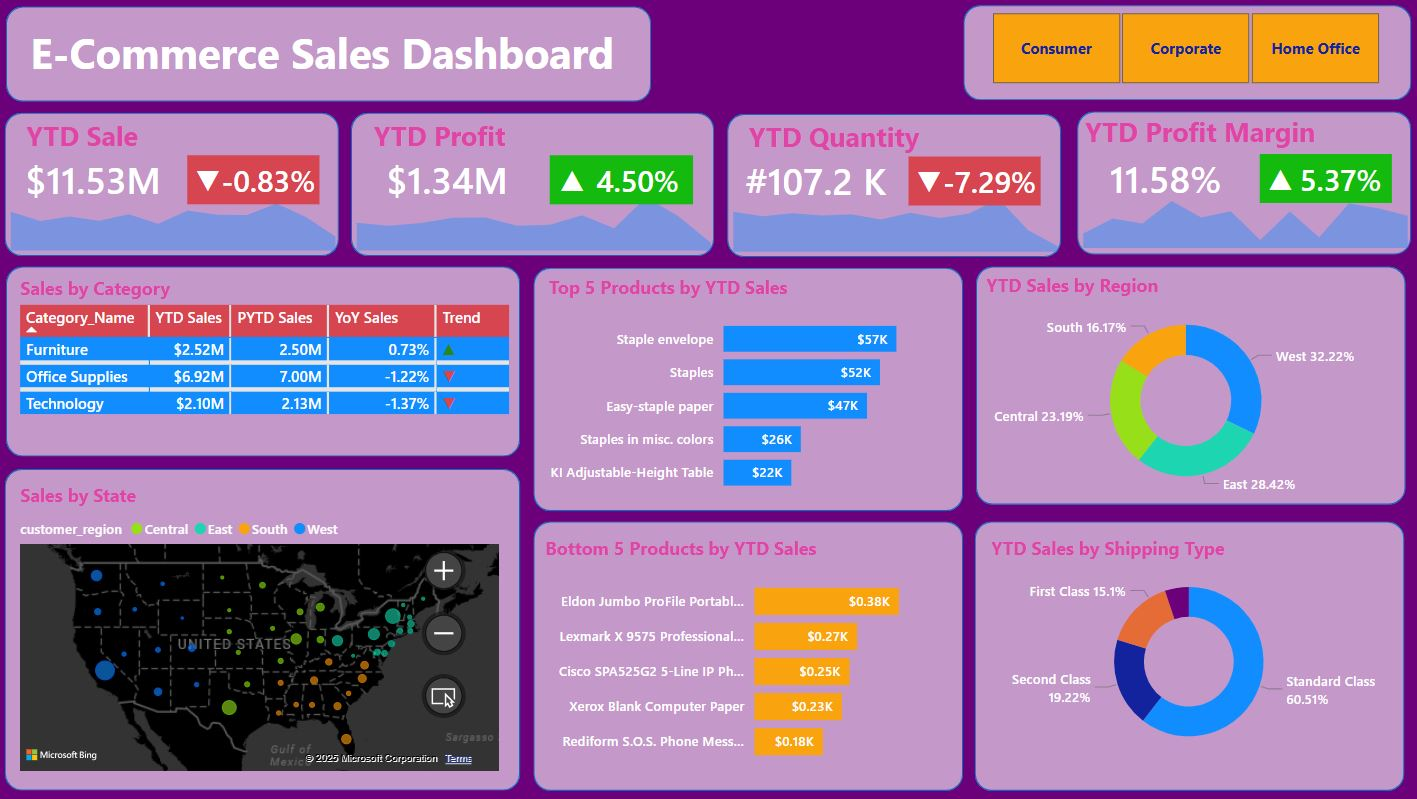

The page's visual inventory and layout, read from the dashboard file:
{"tool":"powerbi","page":{"name":"Page 1","canvas":[1280,720],"ordinal":0},"visuals":[{"type":"shape","box":[13.7,11,576.3,85.1],"z":0},{"type":"textbox","box":[30.2,22,570.8,74.1],"z":1000},{"type":"group","id":"g1","title":"Group 2","box":[2.3,104.7,321.2,129.2],"z":2000},{"type":"shape","box":[970.6,104.8,298.2,127.8],"z":2000,"group":"g5"},{"type":"shape","box":[12.7,105.9,298.4,128],"z":2000,"group":"g1"},{"type":"shape","box":[657.5,107.1,298.2,127.8],"z":3000},{"type":"card","fields":{"Values":["ecommerce_data.YTD Profit Margin"]},"box":[970.6,138.2,158.4,53],"z":3000,"group":"g5"},{"type":"card","fields":{"Values":["ecommerce_data.YTD Sales"]},"box":[12.7,139.3,158.5,53.1],"z":3000,"group":"g1"},{"type":"shape","box":[322,105.9,324.4,128],"z":4000},{"type":"areaChart","fields":{"Category":["Calendar.Month"],"Y":["ecommerce_data.Profit Margin"]},"box":[960.2,164.7,321,68],"z":4000,"group":"g5"},{"type":"areaChart","fields":{"Y":["Sum(ecommerce_data.sales_per_order)"],"Category":["Calendar.Month"]},"box":[2.3,165.8,321.2,68.1],"z":4000,"group":"g1"},{"type":"textbox","box":[972.8,101.6,284.9,50],"z":5000,"group":"g5"},{"type":"textbox","box":[27.2,104.7,148.2,43.8],"z":5000,"group":"g1"},{"type":"card","fields":{"Values":["ecommerce_data.YTD Concatenate"]},"box":[657.5,140.5,158.4,53],"z":5000},{"type":"shape","box":[1133.1,142.8,118,43.8],"z":5000,"group":"g2"},{"type":"shape","box":[175.3,143.9,118.1,43.8],"z":5000,"group":"g3"},{"type":"shape","box":[820,145.1,118,43.8],"z":5000,"group":"g4"},{"type":"card","fields":{"Values":["ecommerce_data.YTD Profit"]},"box":[322,139.4,172.3,53.1],"z":6000},{"type":"group","id":"g2","title":"Group 1","box":[1133.1,142.8,130.5,43.8],"z":6000,"group":"g5"},{"type":"group","id":"g3","title":"Group 1","box":[175.3,143.9,130.6,43.8],"z":6000,"group":"g1"},{"type":"card","fields":{"Values":["ecommerce_data.YoY Profit Margin"]},"box":[1147.6,146.1,116,40.5],"z":6000,"group":"g2"},{"type":"card","fields":{"Values":["ecommerce_data.YoY Sales"]},"box":[189.8,147.2,116.1,40.5],"z":6000,"group":"g3"},{"type":"card","fields":{"Values":["ecommerce_data.YoY Qty"]},"box":[834.5,148.4,116,40.5],"z":6000,"group":"g4"},{"type":"card","fields":{"Values":["ecommerce_data.Profit Margin Icon"]},"box":[1133.1,146.1,37.3,40.5],"z":7000,"group":"g2"},{"type":"card","fields":{"Values":["ecommerce_data.Sales Icon"]},"box":[175.3,147.2,37.3,40.5],"z":7000,"group":"g3"},{"type":"card","fields":{"Values":["ecommerce_data.Qty Icon"]},"box":[820,148.4,37.3,40.5],"z":7000,"group":"g4"},{"type":"areaChart","fields":{"Category":["Calendar.Month"],"Y":["Sum(ecommerce_data.order_quantity)"]},"box":[647.1,167,321,68],"z":7000},{"type":"areaChart","fields":{"Category":["Calendar.Month"],"Y":["Sum(ecommerce_data.profit_per_order)"]},"box":[310.7,165.9,349.2,68.1],"z":8000},{"type":"textbox","box":[672.1,105.8,196.5,44.2],"z":9000},{"type":"group","id":"g4","title":"Group 1","box":[820,145.1,130.5,43.8],"z":10000},{"type":"group","id":"g5","title":"Group 2","box":[960.2,101.6,321,131],"z":11000},{"type":"shape","box":[498.8,144,128.4,43.8],"z":12000},{"type":"textbox","box":[337.8,104.7,161.1,43.8],"z":13000},{"type":"card","fields":{"Values":["ecommerce_data.YoY Profit"]},"box":[514.6,147.3,126.1,40.5],"z":14000},{"type":"card","fields":{"Values":["ecommerce_data.Profit Icon"]},"box":[498.8,147.3,40.5,40.5],"z":15000},{"type":"shape","box":[14,243,459.3,169.8],"z":16000},{"type":"pivotTable","title":"Sales by Category","fields":{"Rows":["ecommerce_data.category_name"],"Values":["ecommerce_data.YTD Sales","ecommerce_data.PYTD Sales","ecommerce_data.YoY Sales","ecommerce_data.Sales Icon"]},"box":[20.9,251.2,452.3,150],"z":17000},{"type":"shape","box":[12.8,424.4,460.5,287.2],"z":18000},{"type":"map","title":" Sales by State","fields":{"X":["Ecommerce_long_lat_codes.longitude"],"Y":["Ecommerce_long_lat_codes.latitude"],"Size":["ecommerce_data.YTD Sales"],"Series":["ecommerce_data.customer_region"]},"box":[20.9,436,438.4,262.8],"z":19000},{"type":"shape","box":[484.9,244.2,383.7,217.4],"z":20000,"group":"g7"},{"type":"shape","box":[484.9,470.9,383.7,240.7],"z":20000},{"type":"barChart","title":"Bottom 5 Products by YTD Sales","fields":{"Category":["ecommerce_data.product_name"],"Y":["ecommerce_data.YTD Sales"]},"box":[490.7,483.7,362.8,215.1],"z":21000},{"type":"barChart","title":"Top 5 Products by YTD Sales","fields":{"Category":["ecommerce_data.product_name"],"Y":["ecommerce_data.YTD Sales"]},"box":[494.2,250,362.8,207],"z":22000,"group":"g7"},{"type":"shape","box":[879.1,470.9,383.7,240.7],"z":22000},{"type":"donutChart","title":"YTD Sales by Shipping Type","fields":{"Y":["ecommerce_data.YTD Sales"],"Category":["ecommerce_data.shipping_type"]},"box":[888.4,483.7,362.8,204.7],"z":23000},{"type":"shape","box":[868.6,10.5,400,84.9],"z":24000},{"type":"shape","box":[880.2,243,383.7,212.8],"z":24000,"group":"g6"},{"type":"slicer","fields":{"Values":["ecommerce_data.customer_segment"]},"box":[868.6,10.5,395.3,76.7],"z":25000},{"type":"group","id":"g6","title":"Group 3","box":[880.2,243,383.7,212.8],"z":26000},{"type":"donutChart","title":"YTD Sales by Region","fields":{"Y":["ecommerce_data.YTD Sales"],"Category":["ecommerce_data.customer_region"]},"box":[884.9,248.8,366.3,207],"z":26000,"group":"g6"},{"type":"group","id":"g7","title":"Group 4","box":[484.9,244.2,383.7,217.4],"z":27000}]}

Visuals, with their boxes in screenshot pixels (x1, y1, x2, y2), scaled from the page's 1280x720 canvas onto the 1417x799 screenshot:
shape: (15, 12, 653, 107)
textbox: (33, 24, 665, 107)
"Group 2" group: (3, 116, 358, 260)
shape: (1074, 116, 1405, 258)
shape: (14, 118, 344, 260)
shape: (728, 119, 1058, 261)
card - ecommerce_data.YTD Profit Margin: (1074, 153, 1250, 212)
card - ecommerce_data.YTD Sales: (14, 155, 190, 214)
shape: (356, 118, 716, 260)
areaChart - Calendar.Month x ecommerce_data.Profit Margin: (1063, 183, 1416, 258)
areaChart - Sum(ecommerce_data.sales_per_order) x Calendar.Month: (3, 184, 358, 260)
textbox: (1077, 113, 1392, 168)
textbox: (30, 116, 194, 165)
card - ecommerce_data.YTD Concatenate: (728, 156, 903, 215)
shape: (1254, 158, 1385, 207)
shape: (194, 160, 325, 208)
shape: (908, 161, 1038, 210)
card - ecommerce_data.YTD Profit: (356, 155, 547, 214)
"Group 1" group: (1254, 158, 1399, 207)
"Group 1" group: (194, 160, 339, 208)
card - ecommerce_data.YoY Profit Margin: (1270, 162, 1399, 207)
card - ecommerce_data.YoY Sales: (210, 163, 339, 208)
card - ecommerce_data.YoY Qty: (924, 165, 1052, 210)
card - ecommerce_data.Profit Margin Icon: (1254, 162, 1296, 207)
card - ecommerce_data.Sales Icon: (194, 163, 235, 208)
card - ecommerce_data.Qty Icon: (908, 165, 949, 210)
areaChart - Calendar.Month x Sum(ecommerce_data.order_quantity): (716, 185, 1072, 261)
areaChart - Calendar.Month x Sum(ecommerce_data.profit_per_order): (344, 184, 731, 260)
textbox: (744, 117, 962, 166)
"Group 1" group: (908, 161, 1052, 210)
"Group 2" group: (1063, 113, 1416, 258)
shape: (552, 160, 694, 208)
textbox: (374, 116, 552, 165)
card - ecommerce_data.YoY Profit: (570, 163, 709, 208)
card - ecommerce_data.Profit Icon: (552, 163, 597, 208)
shape: (15, 270, 524, 458)
"Sales by Category" pivotTable: (23, 279, 524, 445)
shape: (14, 471, 524, 790)
" Sales by State" map: (23, 484, 508, 775)
shape: (537, 271, 962, 512)
shape: (537, 523, 962, 790)
"Bottom 5 Products by YTD Sales" barChart: (543, 537, 945, 775)
"Top 5 Products by YTD Sales" barChart: (547, 277, 949, 507)
shape: (973, 523, 1398, 790)
"YTD Sales by Shipping Type" donutChart: (983, 537, 1385, 764)
shape: (962, 12, 1404, 106)
shape: (974, 270, 1399, 506)
slicer - ecommerce_data.customer_segment: (962, 12, 1399, 97)
"Group 3" group: (974, 270, 1399, 506)
"YTD Sales by Region" donutChart: (980, 276, 1385, 506)
"Group 4" group: (537, 271, 962, 512)
